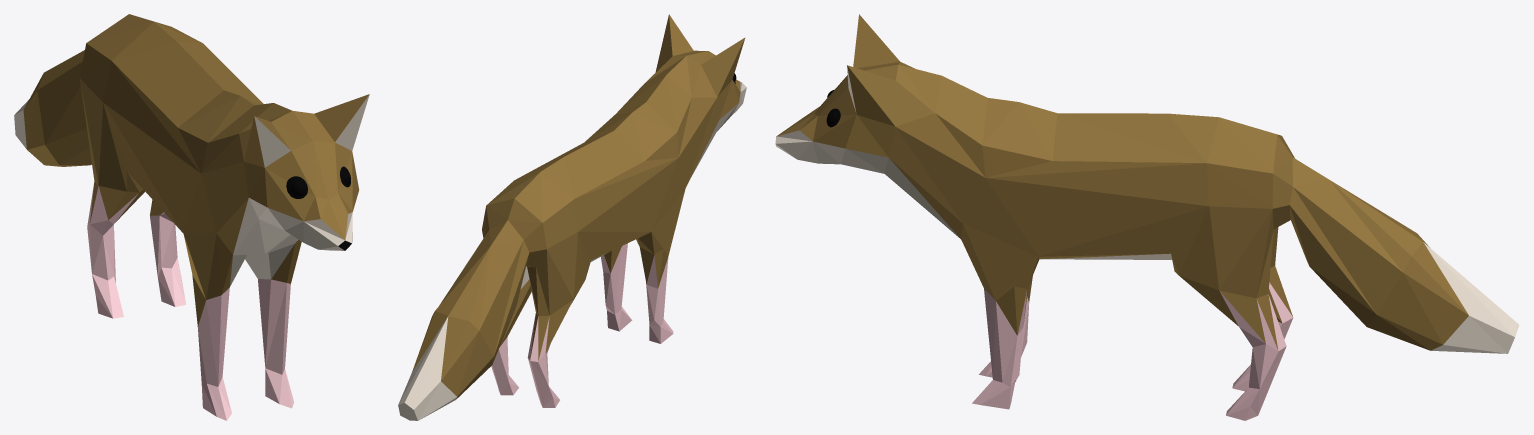
The model's file is arcticFox.obj.
3 views of the same model, side by side, from view 1: azimuth 30°, elevation 25°; view 2: azimuth 150°, elevation 25°; view 3: azimuth 270°, elevation 25° (orthographic). The views are drawn at different scales.
Parts seen in each view (by area): view 1: Cube_001; view 2: Cube_001; view 3: Cube_001.
Boxes of the visible parts, <box> form: Cube_001: <box>14,14,369,420</box>; Cube_001: <box>398,14,746,420</box>; Cube_001: <box>775,14,1519,420</box>.
Size of what is drawn, in the model's own units: 1.1 by 2.72 by 5.3.
